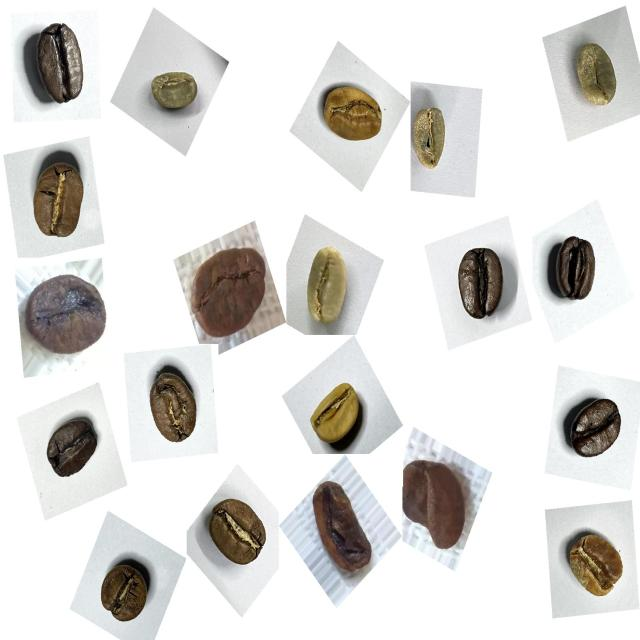bad: (17, 265, 115, 372), (183, 233, 273, 346), (391, 448, 476, 560), (302, 472, 382, 586)
dark: (20, 15, 100, 118), (444, 233, 518, 331), (558, 383, 634, 473), (541, 226, 613, 316), (38, 406, 108, 490)
green: (296, 238, 362, 334), (562, 32, 630, 121), (406, 96, 461, 181), (142, 62, 206, 126)
light: (555, 522, 634, 614), (313, 73, 392, 158), (305, 372, 374, 453)
medium: (19, 153, 97, 254), (198, 488, 276, 580), (138, 364, 212, 456), (90, 555, 159, 636)
